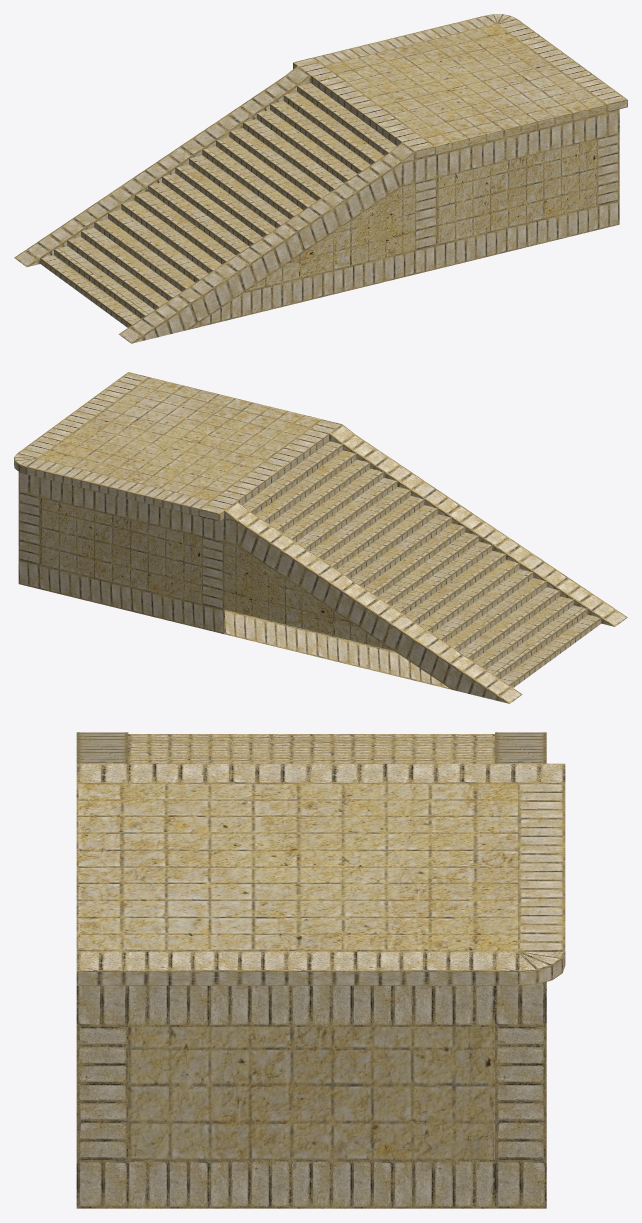
The model's file is tutorial_structure_block04.dae.
3 views of the same model, one above another, from view 1: azimuth 30°, elevation 25°; view 2: azimuth 150°, elevation 25°; view 3: azimuth 270°, elevation 25° (orthographic). The views are drawn at different scales.
Parts seen in each view (by area): view 1: tutorial_structure_block04; view 2: tutorial_structure_block04; view 3: tutorial_structure_block04.
Part boxes in pixels (box(x1,y1,x2,y2)): tutorial_structure_block04: box(14, 14, 627, 343); tutorial_structure_block04: box(14, 372, 627, 703); tutorial_structure_block04: box(76, 732, 565, 1208).
Size of the model in its own units: 16.48 by 7.02 by 3.89.
Materials: 3 (3 with a texture image).
